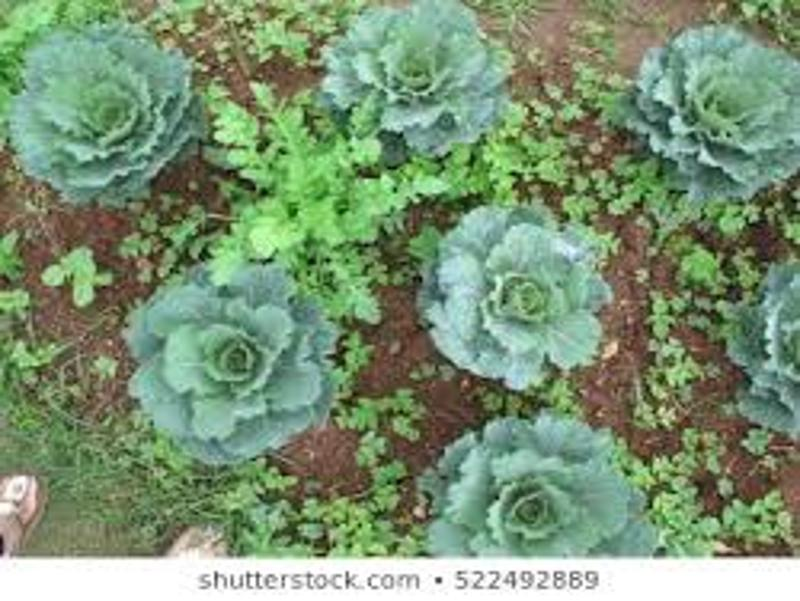cabbage: (135, 268, 331, 451), (434, 417, 665, 556), (24, 22, 205, 198), (425, 198, 603, 372), (629, 25, 800, 197), (324, 9, 514, 159)
